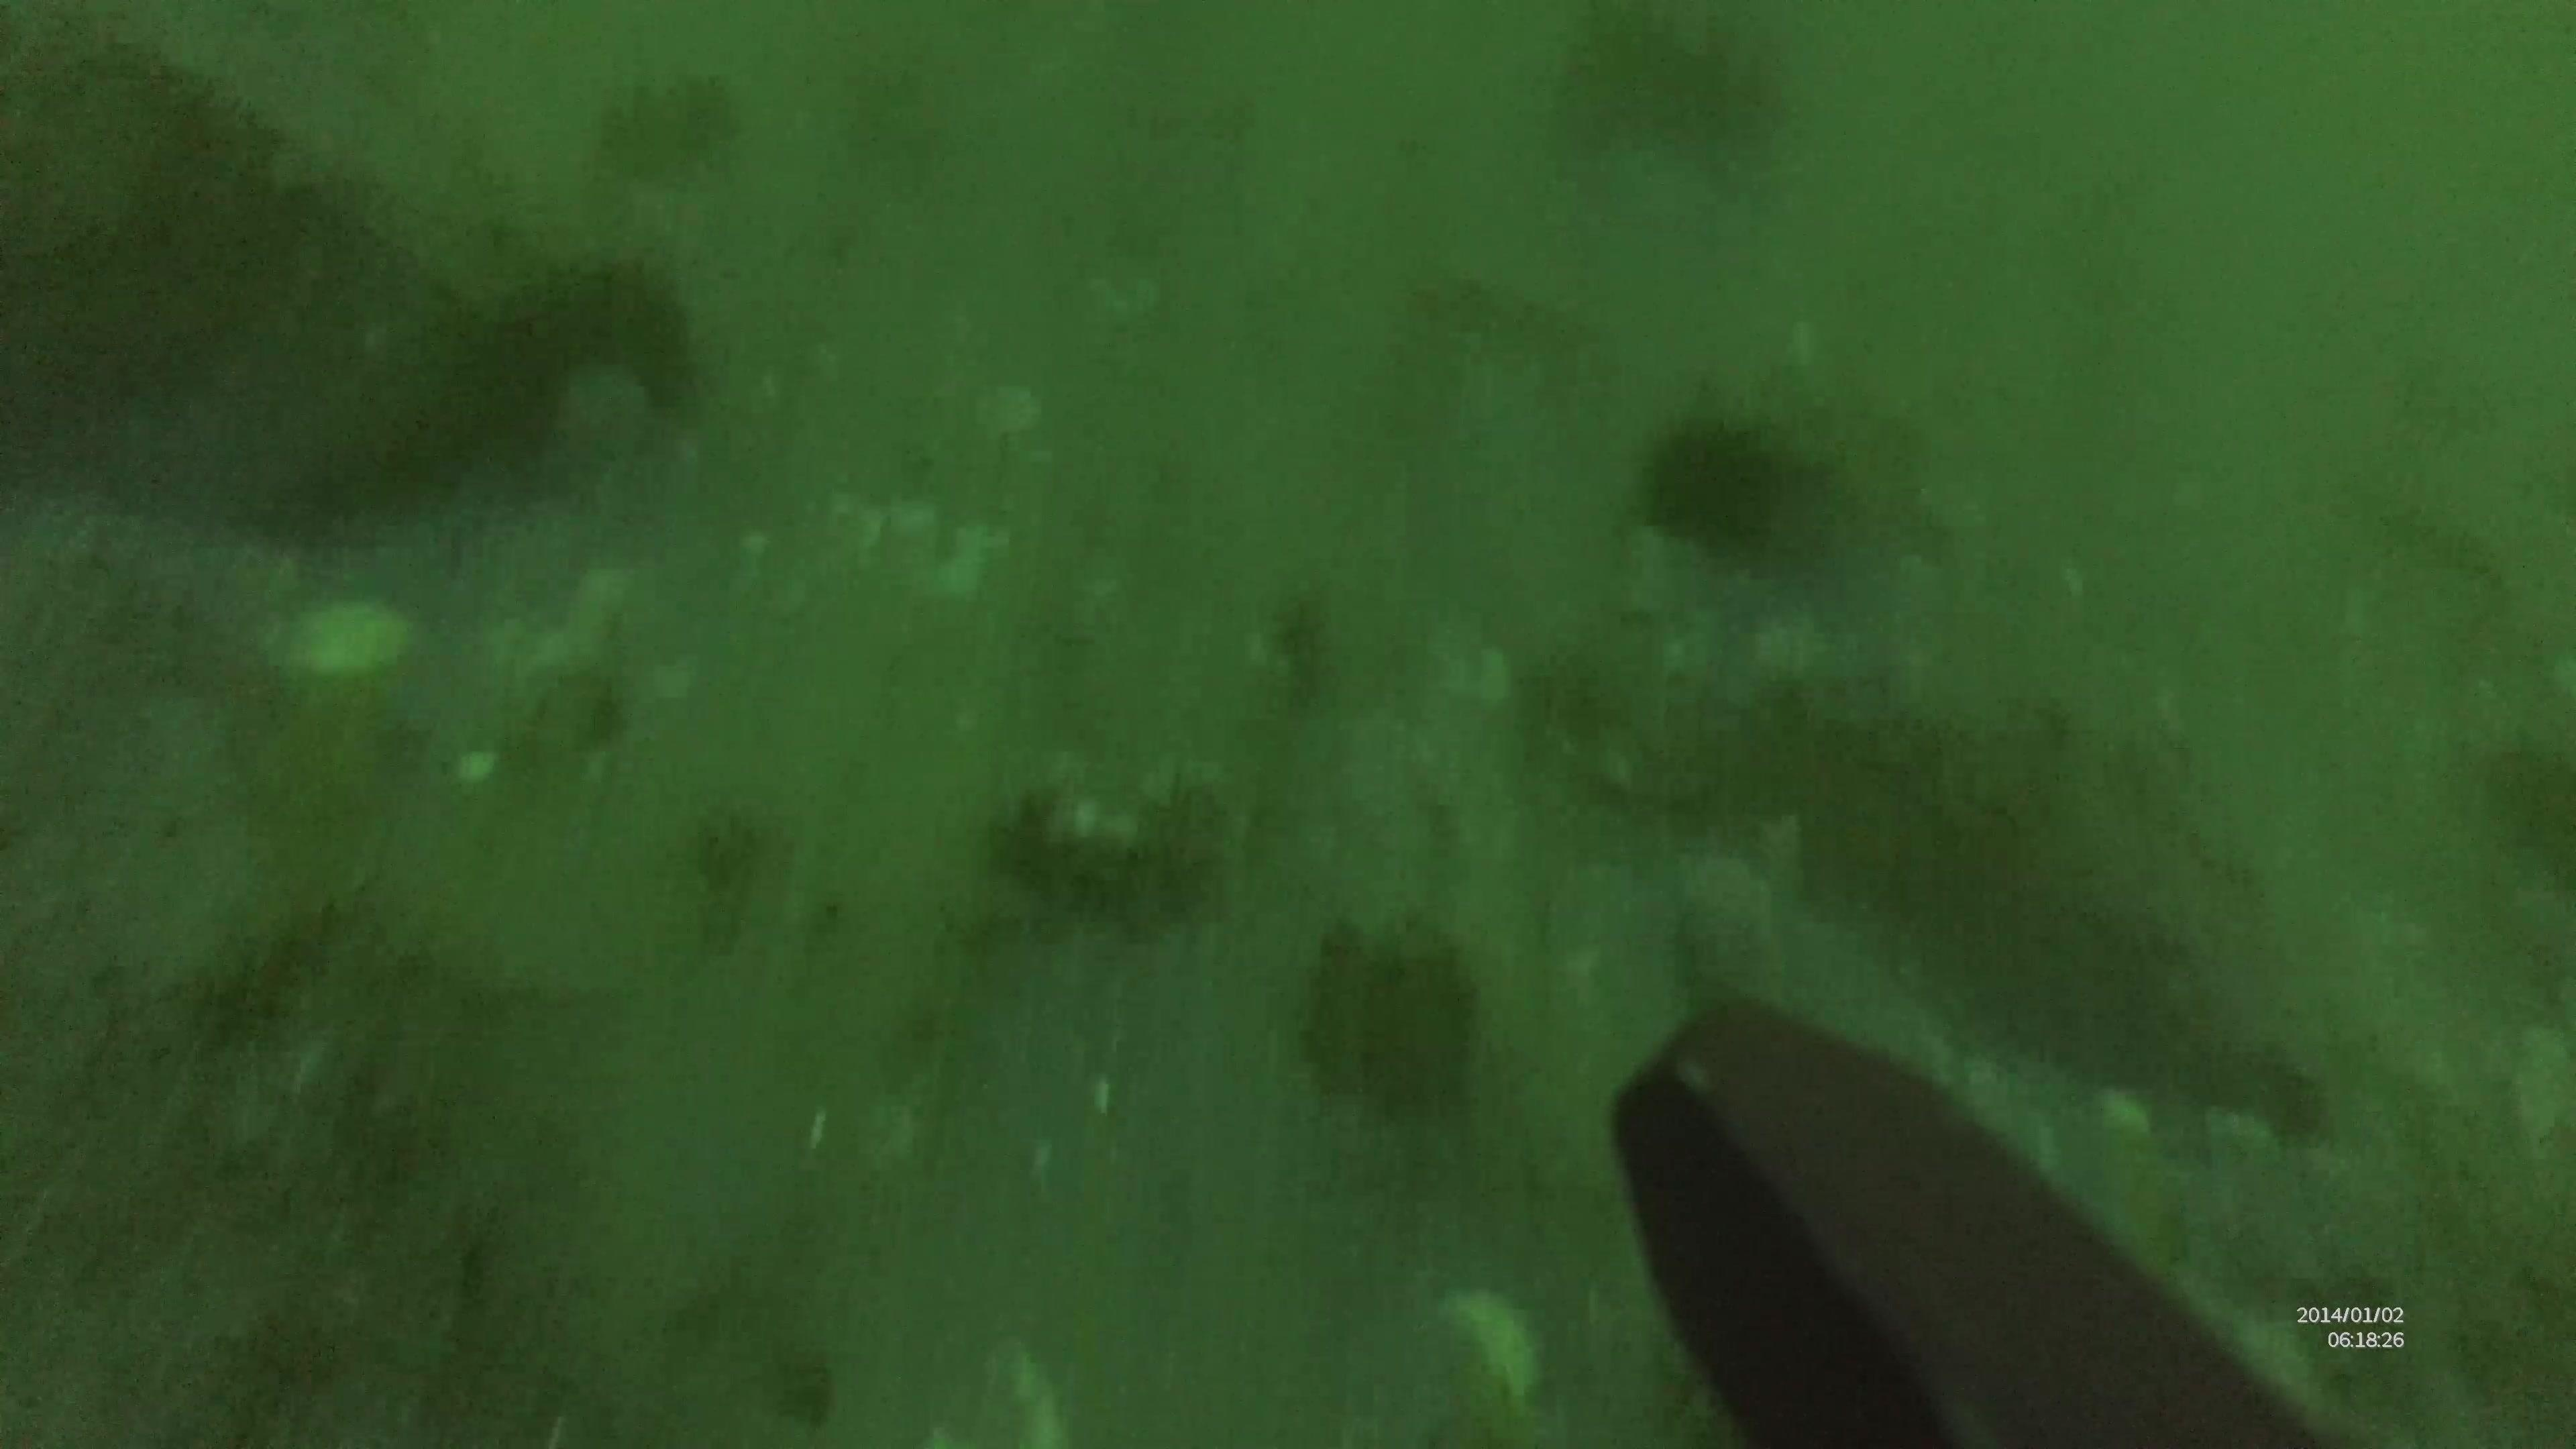echinus: (1631, 403, 1806, 561)
